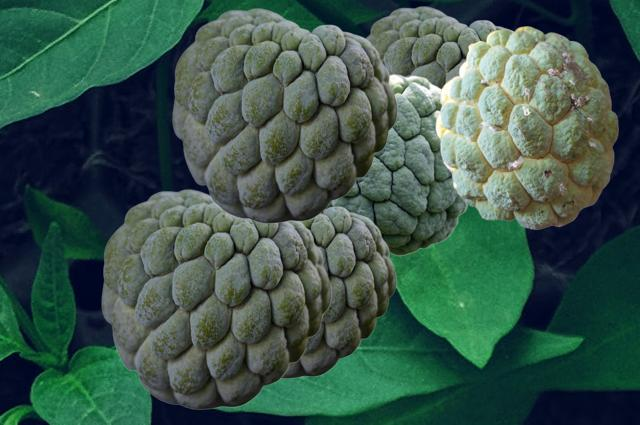atis: (101, 189, 330, 408), (172, 8, 396, 222), (435, 26, 617, 228), (329, 72, 468, 255), (283, 206, 395, 377), (366, 6, 513, 87)
